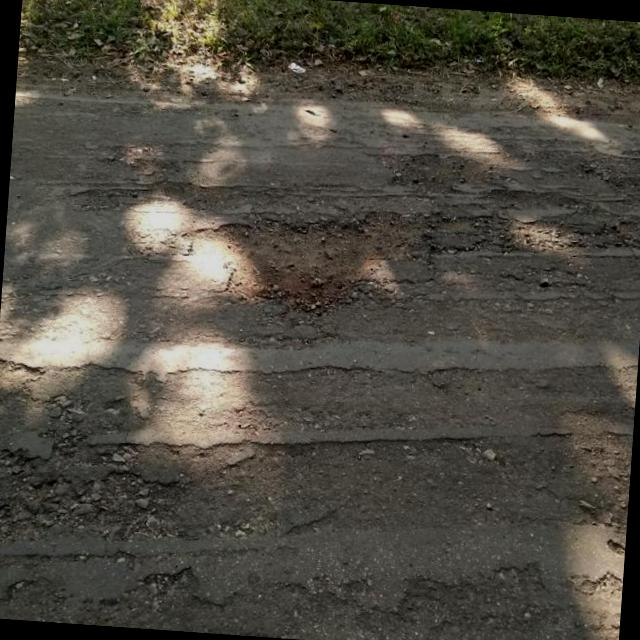pothole: (173, 196, 457, 320)
